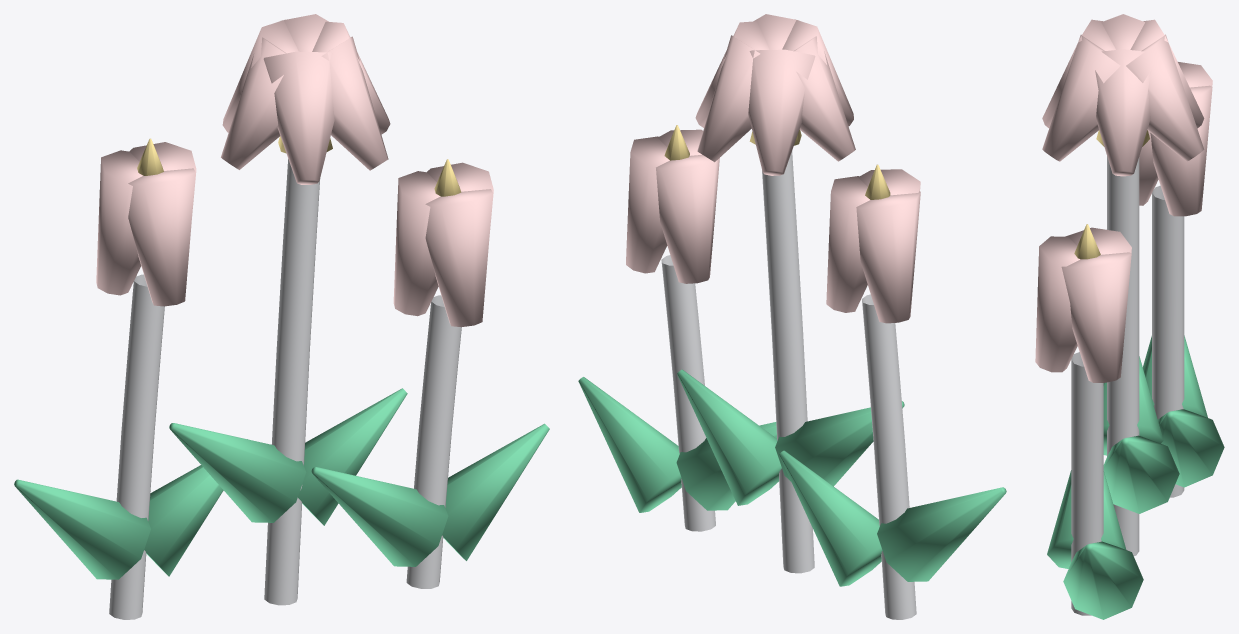
Rendered from flower.glb.
3 renders of one model, left to right at view 1: azimuth 30°, elevation 25°; view 2: azimuth 150°, elevation 25°; view 3: azimuth 270°, elevation 25°, orthographic. The views are drawn at different scales.
Parts seen in each view (by area): view 1: F1_Stem, F2_Stem, F3_Stem, F2_B2, F3_B2, F2_LeafL, F1_LeafL, F3_LeafL, F1_P4, F3_LeafR, F1_LeafR, F2_B1 (+9 smaller); view 2: F1_Stem, F2_Stem, F2_B1, F3_B1, F2_LeafL, F1_LeafR, F2_LeafR, F3_LeafR, F1_P2, F3_Stem, F1_LeafL, F2_B0 (+8 smaller); view 3: F2_Stem, F1_Stem, F3_B0, F3_Stem, F1_P0, F3_LeafR, F1_P1, F1_P5, F3_B2, F1_LeafR, F2_B0, F2_LeafR (+10 smaller).
Boxes of the visible parts, left/top/right/bottom form: F1_Stem: left=264, top=159, right=320, bottom=605; F2_Stem: left=109, top=274, right=164, bottom=619; F3_Stem: left=406, top=295, right=461, bottom=588; F2_B2: left=128, top=168, right=195, bottom=306; F3_B2: left=425, top=189, right=492, bottom=326; F2_LeafL: left=14, top=479, right=150, bottom=579; F1_LeafL: left=169, top=423, right=306, bottom=522; F3_LeafL: left=311, top=467, right=448, bottom=566; F1_P4: left=263, top=51, right=334, bottom=184; F3_LeafR: left=442, top=423, right=549, bottom=560; F1_LeafR: left=298, top=388, right=407, bottom=525; F2_B1: left=96, top=150, right=142, bottom=295; F1_Stem: left=762, top=151, right=814, bottom=573; F2_Stem: left=862, top=294, right=916, bottom=619; F2_B1: left=856, top=191, right=920, bottom=323; F3_B1: left=656, top=154, right=719, bottom=283; F2_LeafL: left=877, top=487, right=1006, bottom=581; F1_LeafR: left=677, top=369, right=781, bottom=505; F2_LeafR: left=779, top=450, right=882, bottom=586; F3_LeafR: left=578, top=377, right=681, bottom=512; F1_P2: left=748, top=49, right=815, bottom=175; F3_Stem: left=661, top=255, right=715, bottom=531; F1_LeafL: left=775, top=401, right=904, bottom=486; F2_B0: left=826, top=176, right=869, bottom=312; F2_Stem: left=1152, top=185, right=1184, bottom=497; F1_Stem: left=1107, top=156, right=1139, bottom=556; F3_B0: left=1061, top=252, right=1131, bottom=382; F3_Stem: left=1071, top=352, right=1103, bottom=615; F1_P0: left=1095, top=49, right=1151, bottom=176; F3_LeafR: left=1063, top=541, right=1143, bottom=619; F1_P1: left=1126, top=34, right=1204, bottom=161; F1_P5: left=1042, top=34, right=1120, bottom=161; F3_B2: left=1035, top=236, right=1080, bottom=372; F1_LeafR: left=1103, top=435, right=1179, bottom=513; F2_B0: left=1150, top=85, right=1212, bottom=216; F2_LeafR: left=1158, top=409, right=1224, bottom=487.
Bounding box in the file's own units: 0.6 × 0.6534 × 0.2106.
